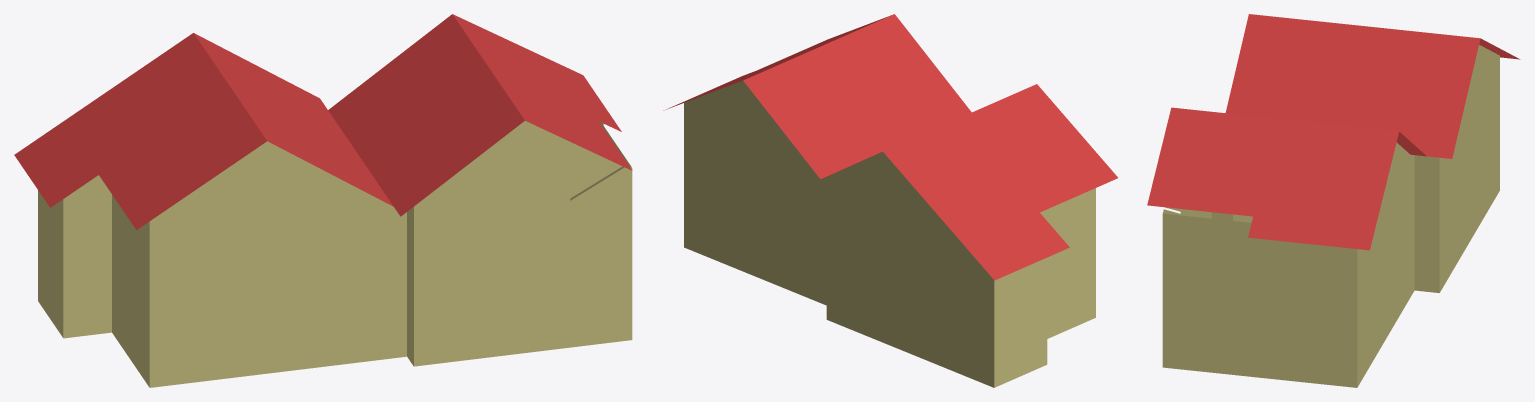
3 renders of one model, left to right at view 1: azimuth 30°, elevation 25°; view 2: azimuth 150°, elevation 25°; view 3: azimuth 270°, elevation 25°, orthographic. The views are drawn at different scales.
Bounding box in the file's own units: 23.04 × 16.28 × 10.36.
